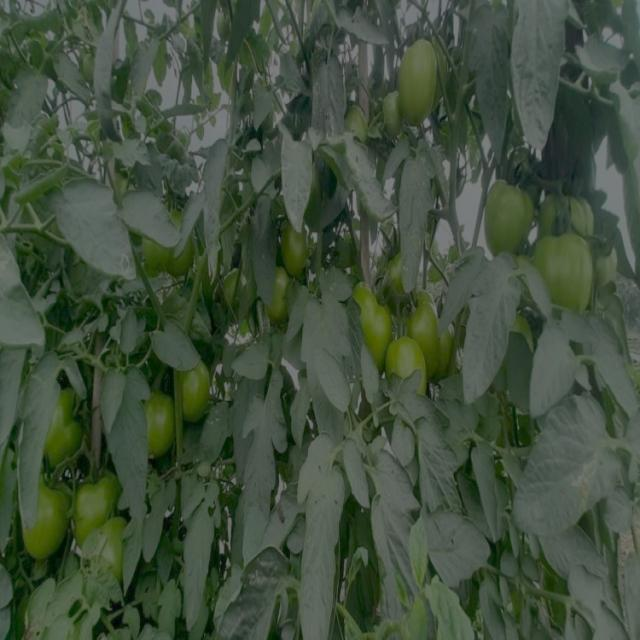tomato: (384, 26, 456, 134), (480, 160, 536, 263), (539, 232, 600, 313), (32, 383, 87, 467), (19, 478, 69, 567), (544, 186, 607, 242), (133, 388, 177, 462), (178, 355, 218, 427), (414, 298, 451, 374), (73, 468, 121, 526), (361, 298, 400, 366), (85, 529, 135, 582), (131, 222, 176, 273), (218, 264, 254, 323), (279, 222, 319, 275), (262, 282, 302, 327), (389, 339, 425, 387)
